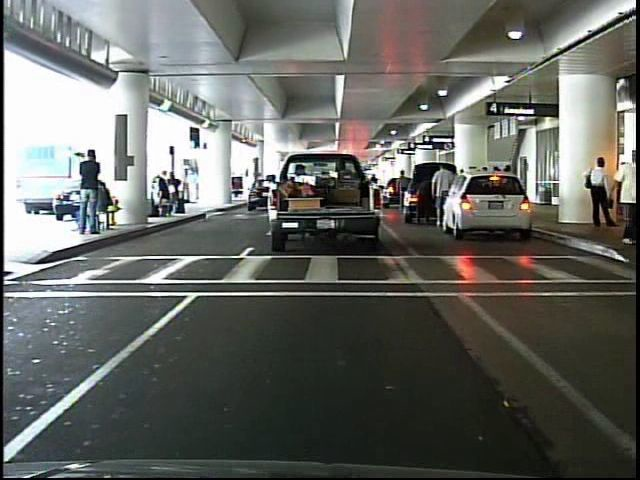person: (586, 150, 623, 234), (78, 142, 108, 236), (427, 160, 455, 232), (185, 164, 201, 207)
